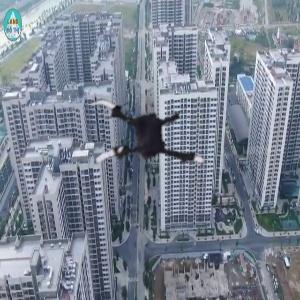drone: (74, 78, 208, 212)
